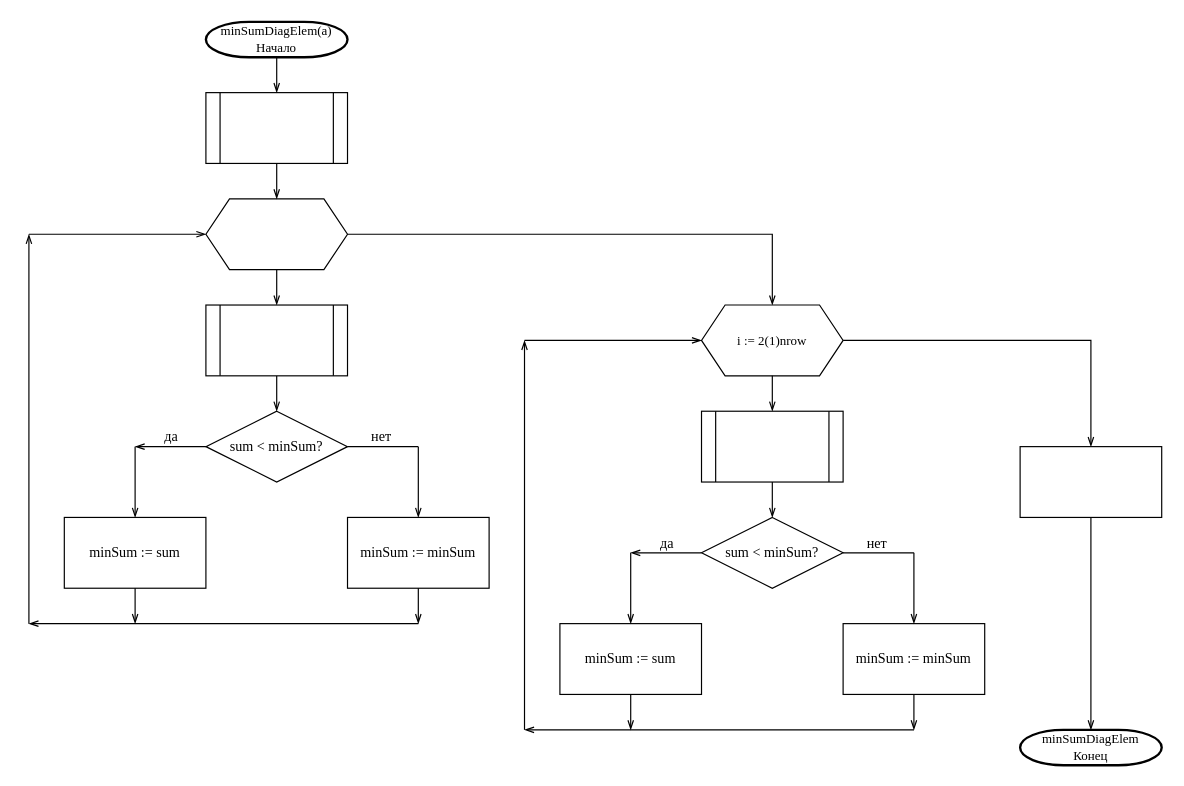
Image size: 1184x786. Some labels were removed from this diagram. The centre of each missing label's shape, as x and y in pixels:
i := 2(1)ncol: point 276,234
minSum := sumDiagElem(a, 1, 1): point 276,127
minSumDiagElem := minSum: point 1090,481
sum := sumDiagElem(a, 1, i): point 276,340
sum := sumDiagElem(a, i, 1): point 771,446
